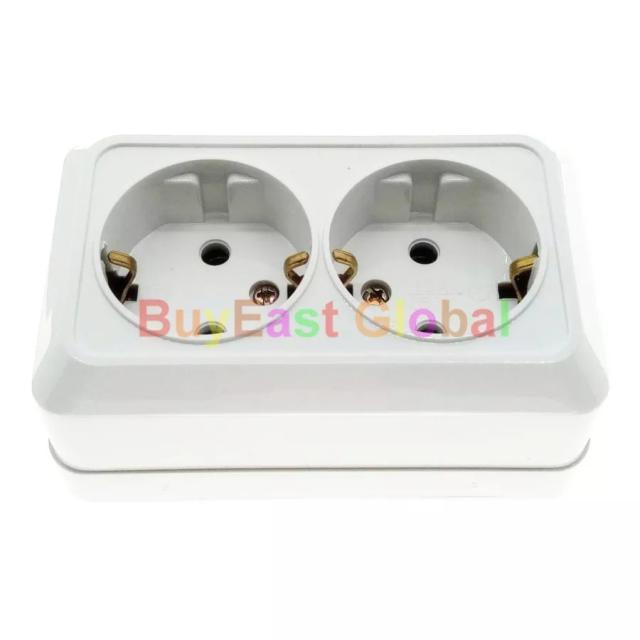typeb: (35, 115, 606, 496)
